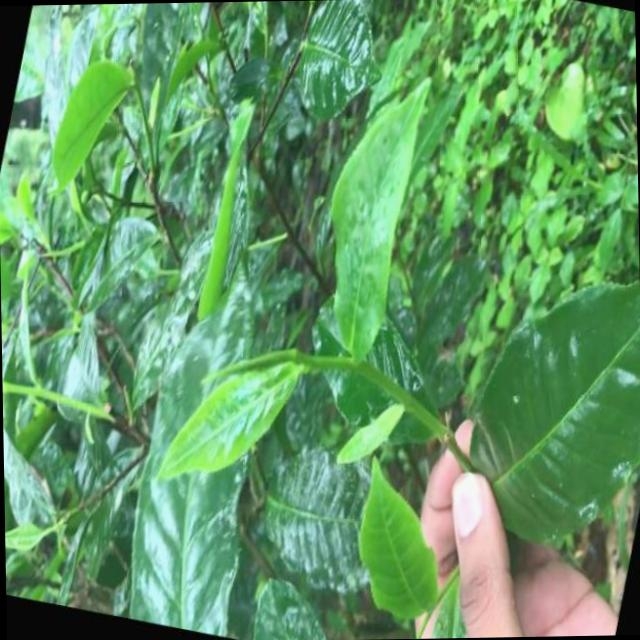Stem: (352, 360, 372, 378)
